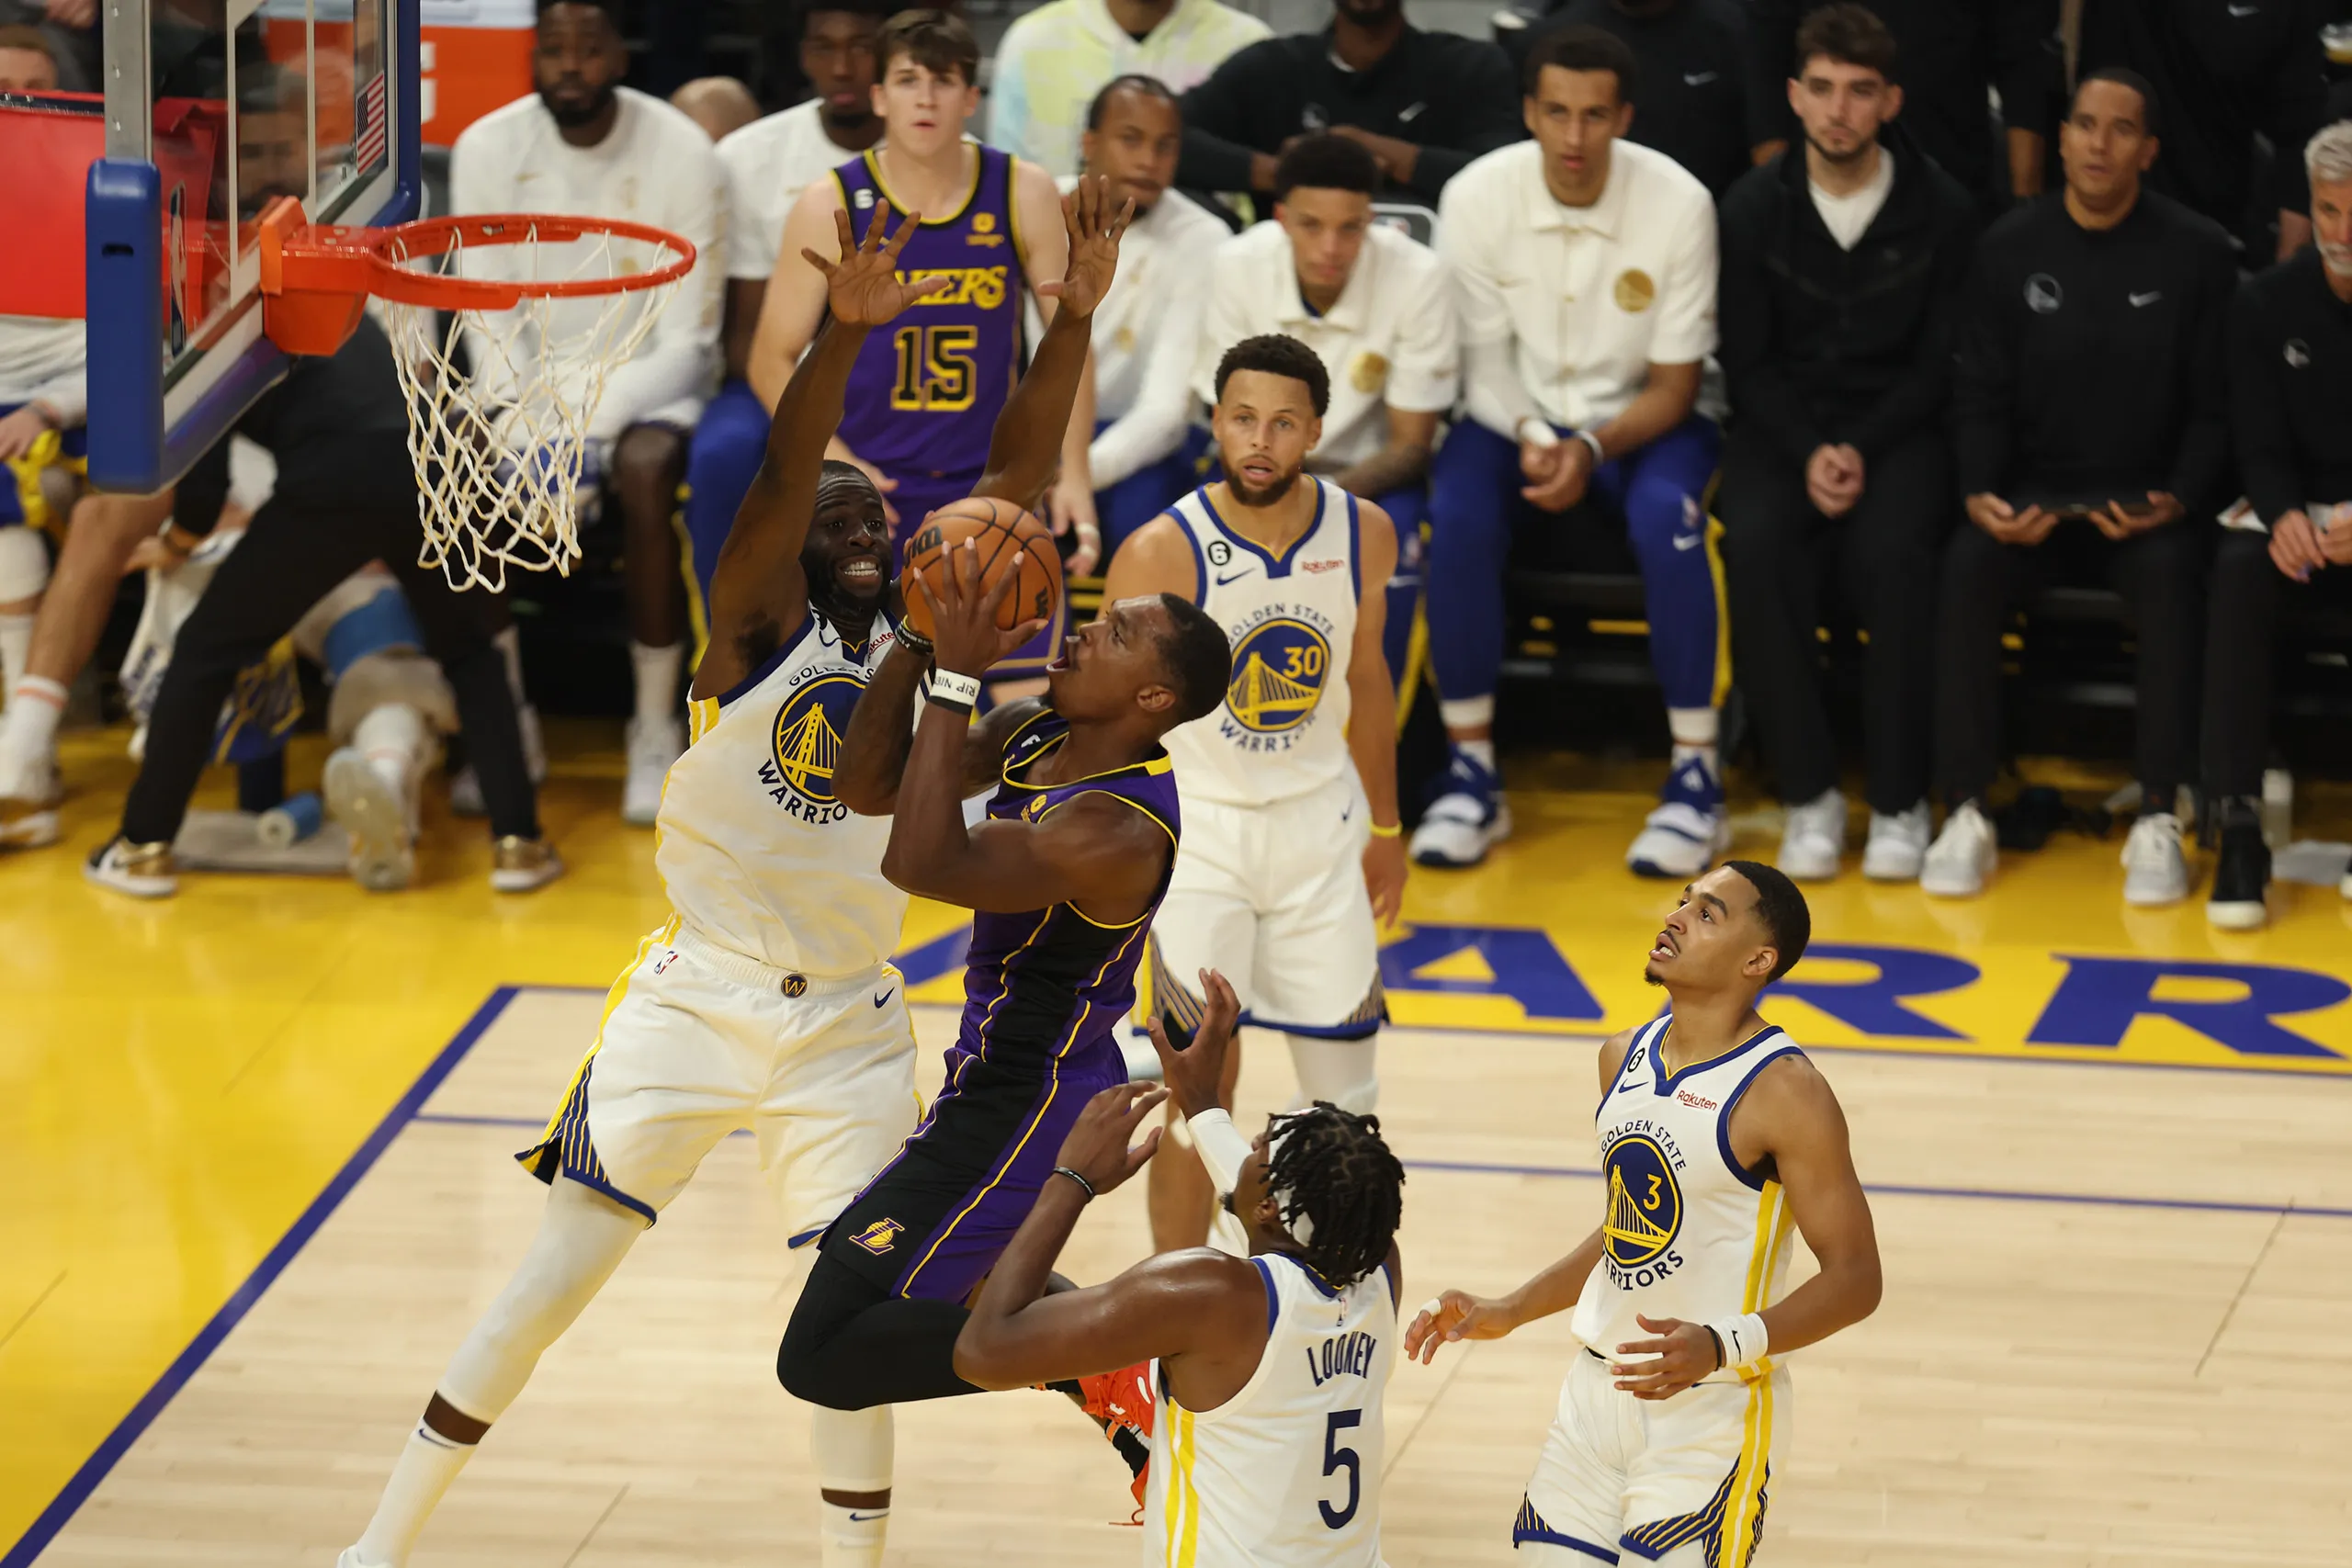basketball: (892, 476, 1070, 703)
basketball_coach: (1962, 76, 2244, 924), (1719, 49, 1968, 935)
basketball_player: (1422, 827, 1882, 1568), (1087, 346, 1427, 1092), (1070, 1032, 1411, 1568), (768, 33, 1055, 536)
basketball_player_bench: (1384, 60, 1736, 919)
basketball_rim: (303, 174, 682, 682)
